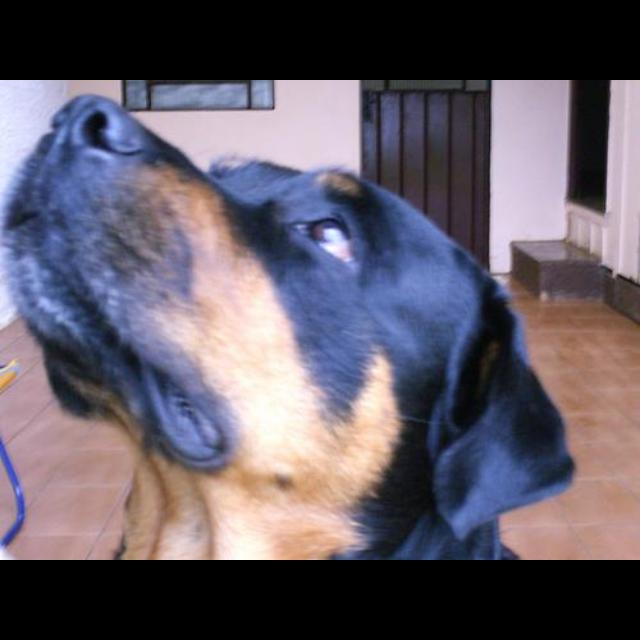rottweiler: (1, 93, 577, 560)
